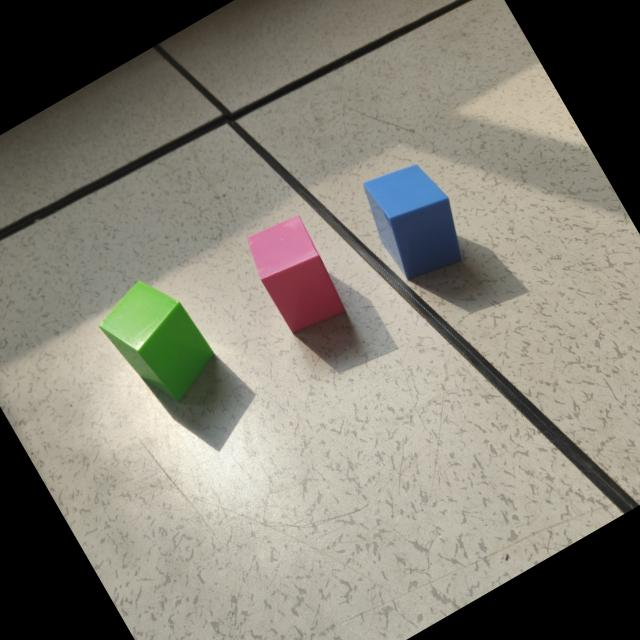blue: (364, 165, 463, 282)
green: (100, 283, 218, 408)
pink: (249, 218, 347, 337)
